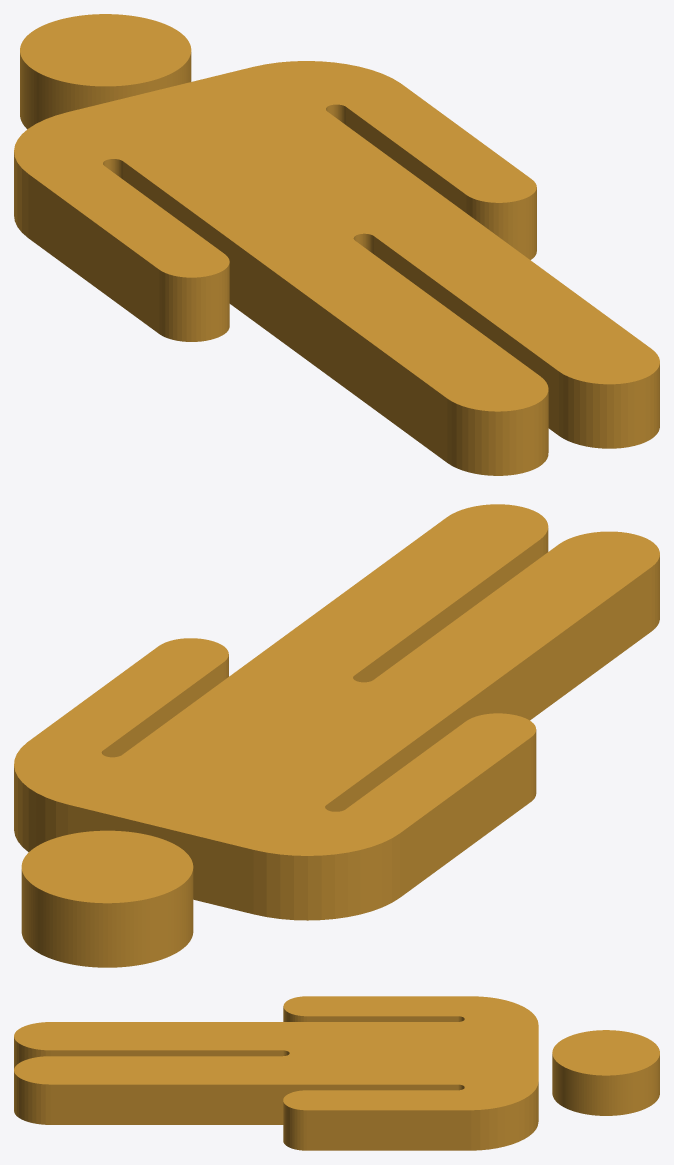
The model's file is stand.glb.
3 views of the same model, one above another, from view 1: azimuth 30°, elevation 25°; view 2: azimuth 150°, elevation 25°; view 3: azimuth 270°, elevation 25° (orthographic). The views are drawn at different scales.
Parts seen in each view (by area): view 1: Path; view 2: Path; view 3: Path.
Part boxes in pixels (x1,y1,x2,y2): Path: (14, 14, 659, 475); Path: (14, 504, 659, 967); Path: (14, 996, 659, 1150).
Size of the model in its own units: 0.012 by 0.00199 by 0.0288.
